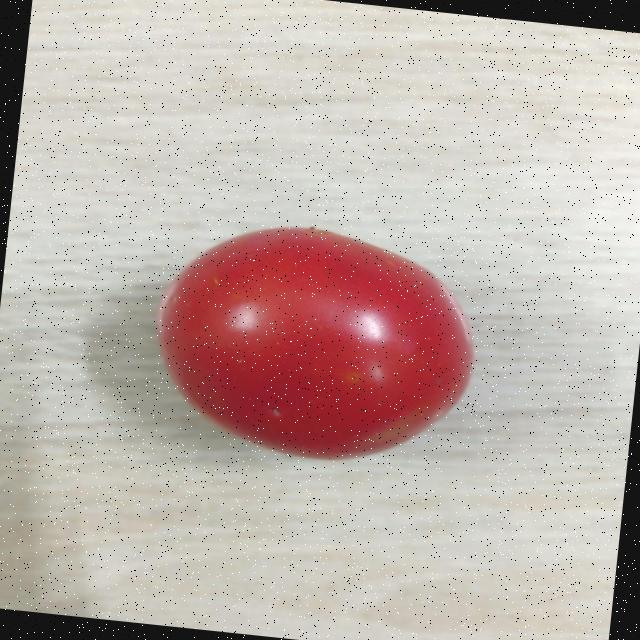Tomato: (143, 207, 492, 478)
